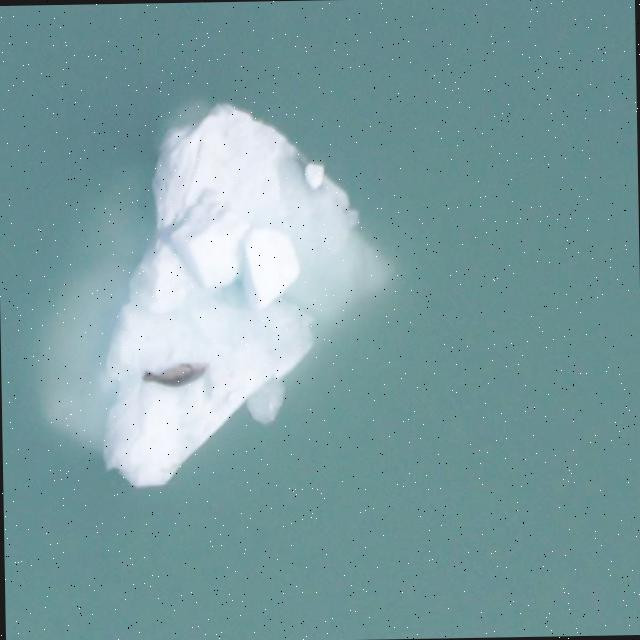seal: (140, 358, 210, 396)
